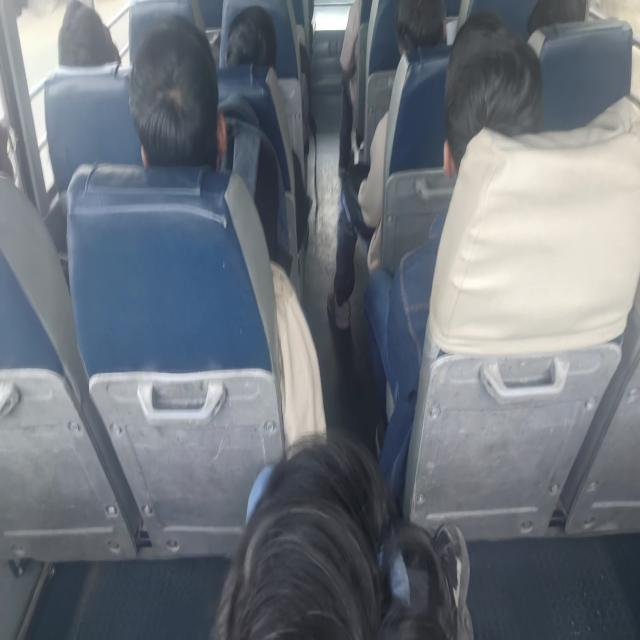person: (217, 434, 472, 640), (130, 29, 228, 182), (443, 31, 533, 184), (224, 9, 288, 82), (385, 0, 458, 62), (56, 0, 116, 69), (524, 0, 588, 39), (0, 97, 25, 178)
